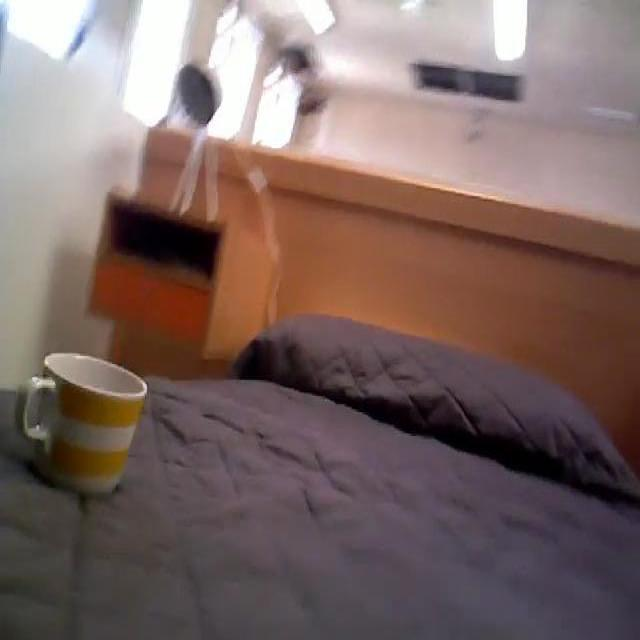cup: (14, 347, 154, 498)
